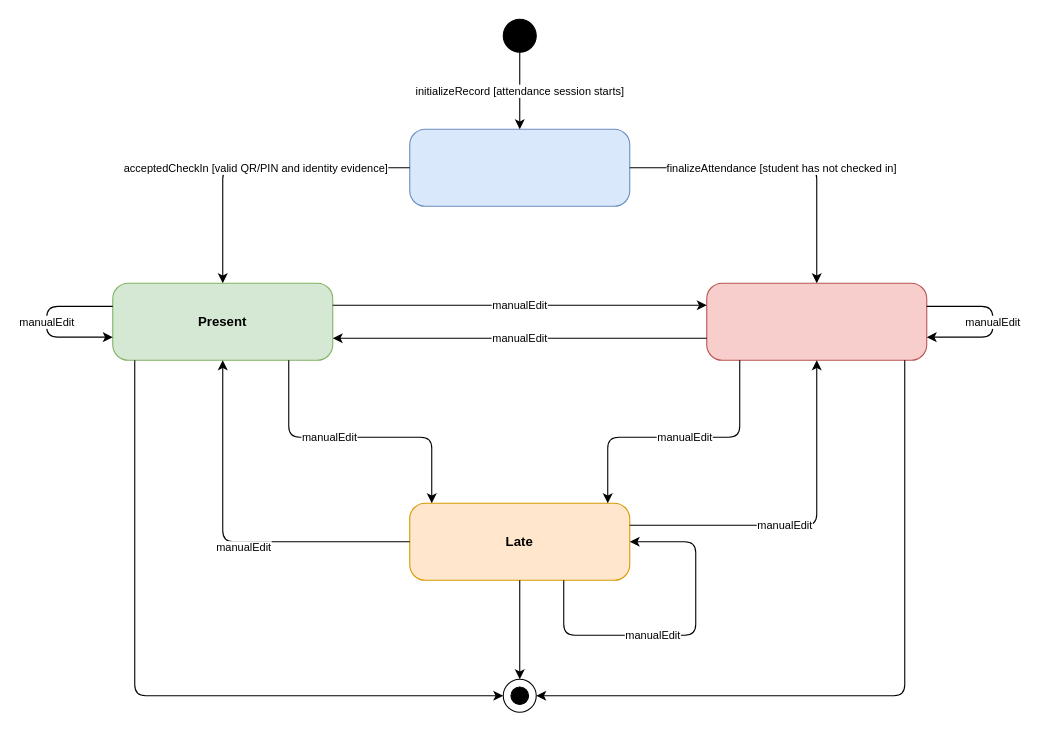
This 1038x732 diagram has some shape labels left out. Each missing label, with the centre of its shape:
"Absent" belongs at pixel 816 321.
"NotYet" belongs at pixel 519 167.
